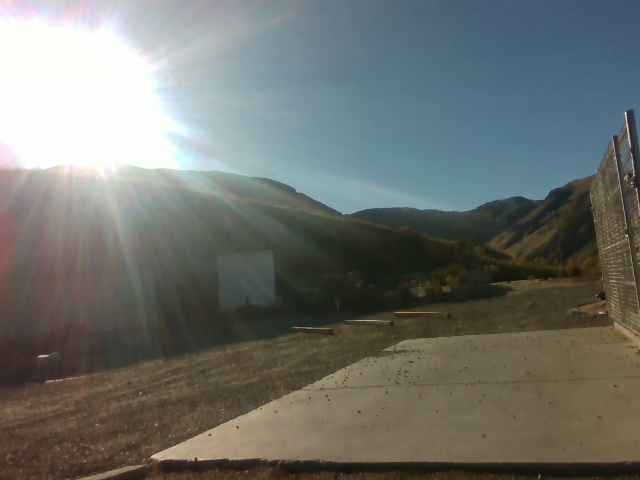Dunnage: (283, 301, 459, 340)
